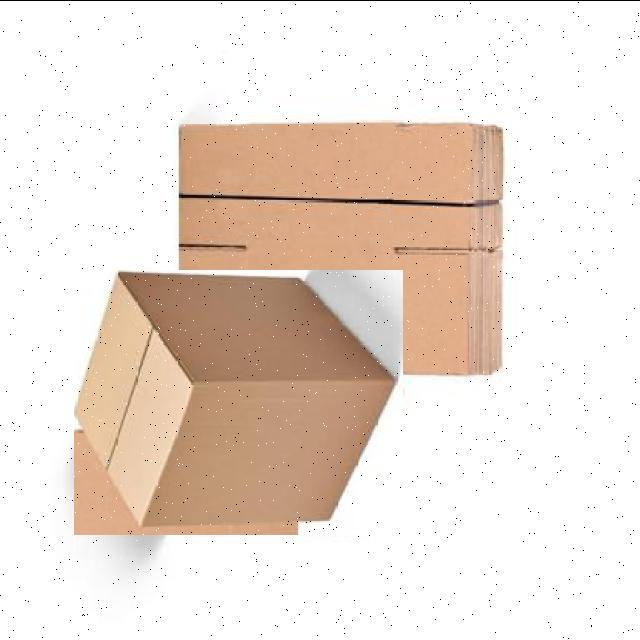normal: (74, 269, 403, 534)
